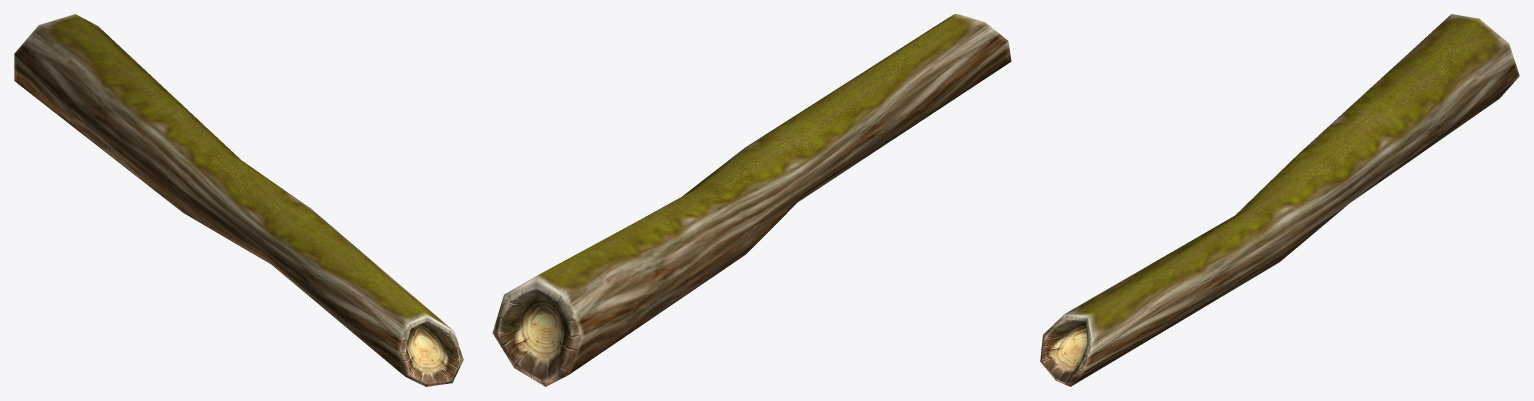
File: redridgefallentree01moss.obj
The picture shows the model from 3 angles, left to right: view 1: azimuth 30°, elevation 25°; view 2: azimuth 150°, elevation 25°; view 3: azimuth 330°, elevation 25°; orthographic projection. The views are drawn at different scales.
Visible parts, largest first — view 1: Geoset0, Geoset1; view 2: Geoset0, Geoset1; view 3: Geoset0, Geoset1.
Part boxes in pixels (left/top/right/bottom): Geoset0: left=14, top=14, right=452, bottom=376; Geoset1: left=399, top=314, right=463, bottom=386; Geoset0: left=537, top=14, right=1011, bottom=374; Geoset1: left=492, top=276, right=582, bottom=386; Geoset0: left=1065, top=14, right=1519, bottom=386; Geoset1: left=1040, top=314, right=1092, bottom=386.
Size of the model in its own units: 1.48 by 1.58 by 12.24.
Materials: 2 (2 with a texture image).
